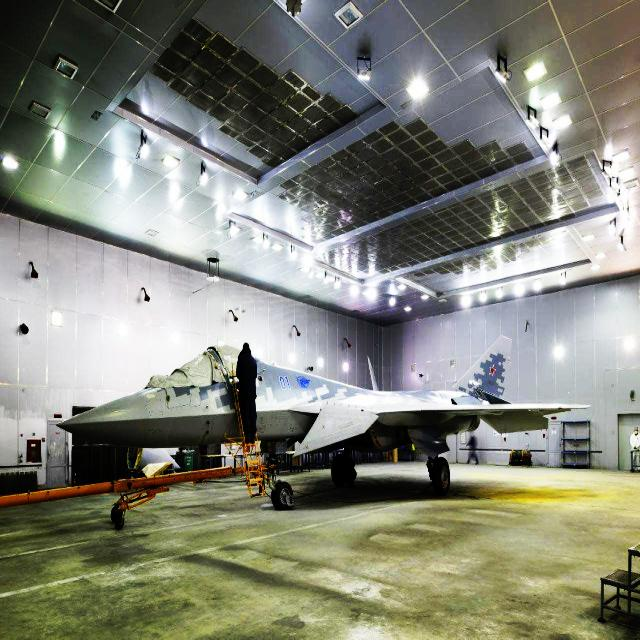Aircraft: (2, 306, 598, 500)
